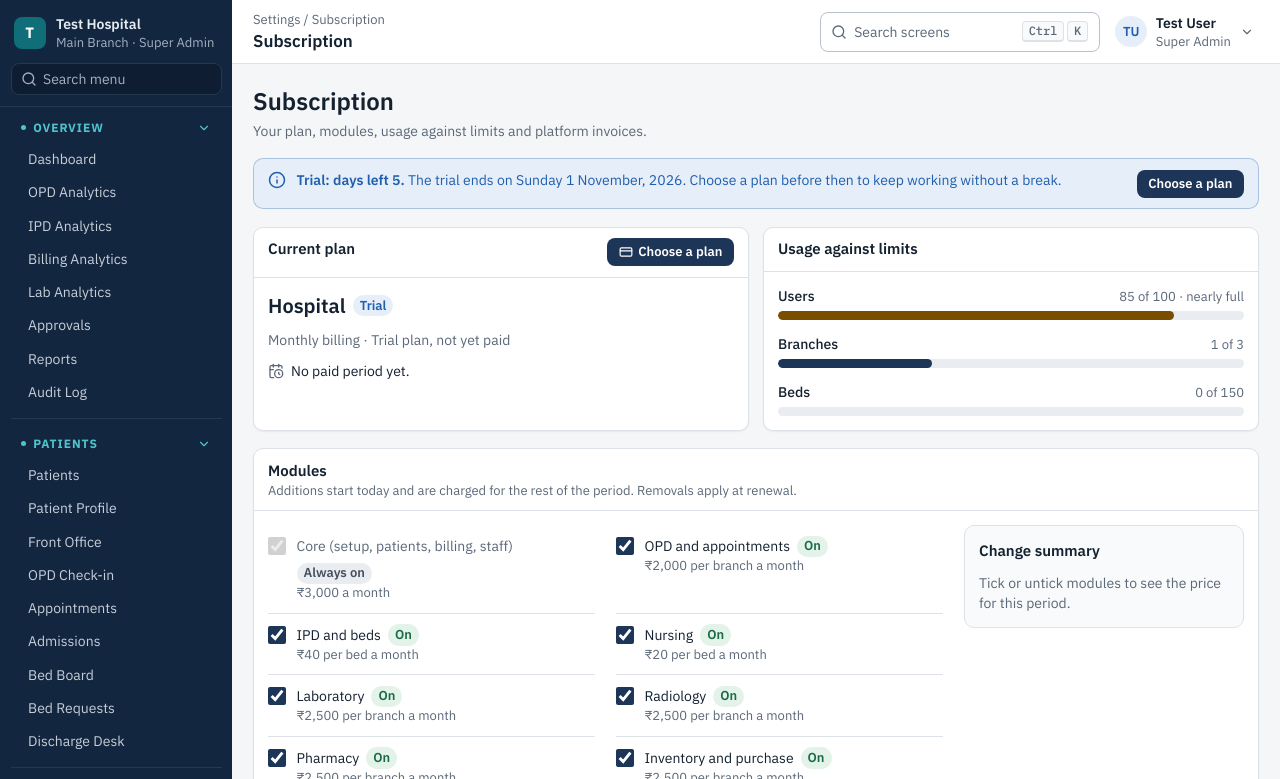
Test case: Subscription › prices a module change live, shows what blocks it, and applies it
Click the checkbox labelled "IPD and beds On" at (277, 635), box [268,626,286,644]
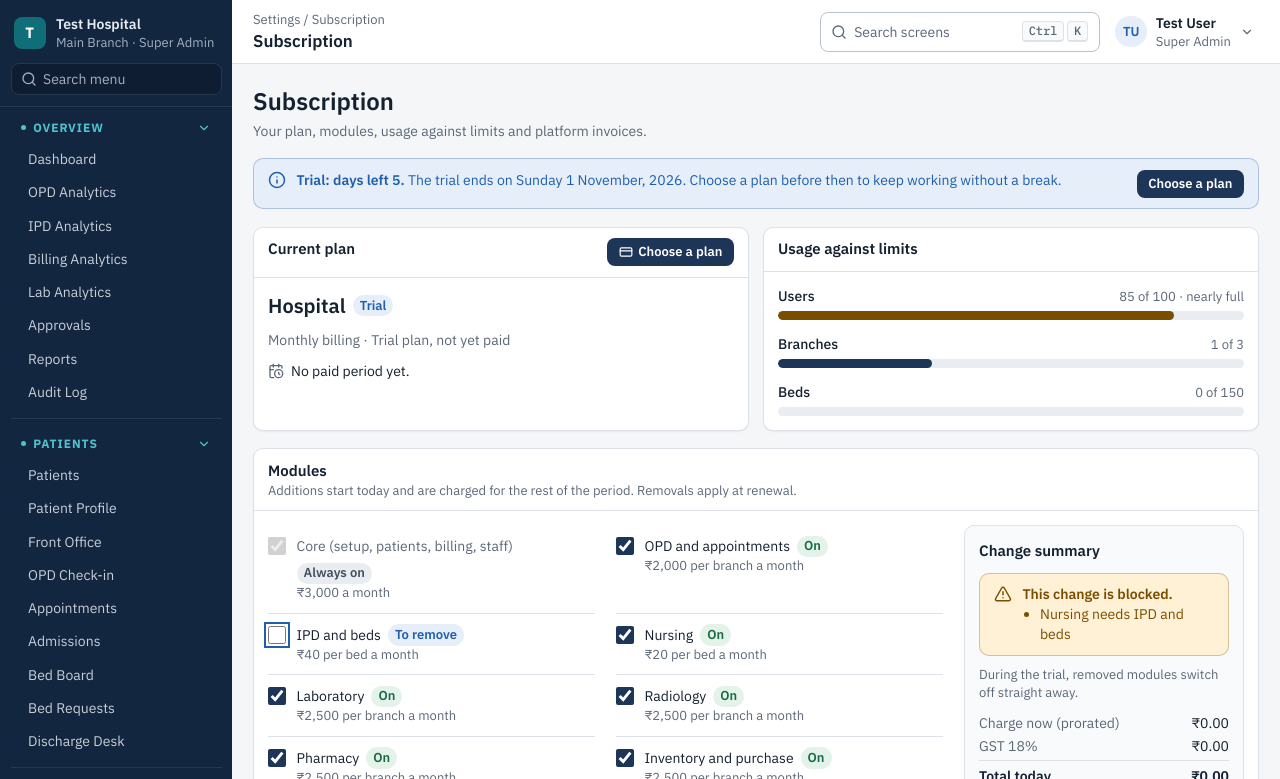
Check: the list item "Nursing needs IPD and beds" is shown, box [1040,605,1184,643]
Click the checkbox labelled "IPD and beds To remove" at (277, 635), box [268,626,286,644]
(page scrolled)
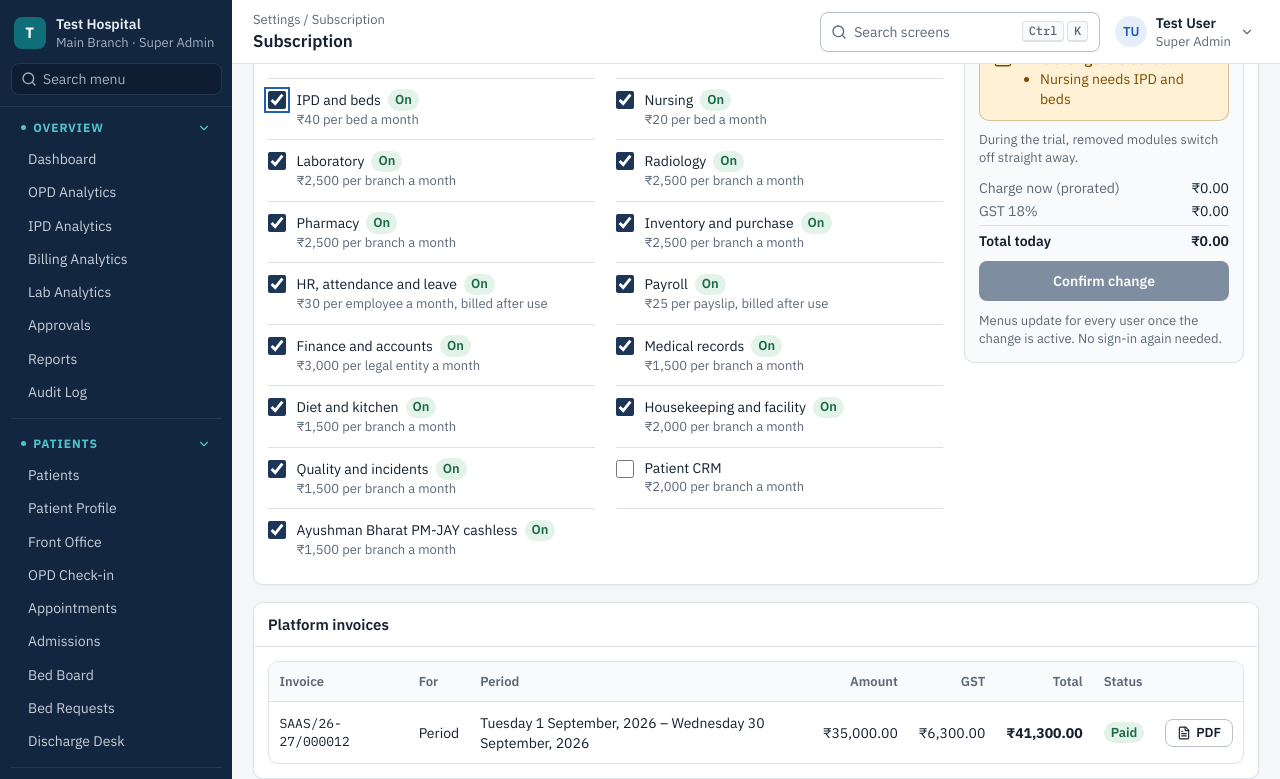
Click the checkbox labelled "Patient CRM" at (625, 469), box [616,460,634,478]
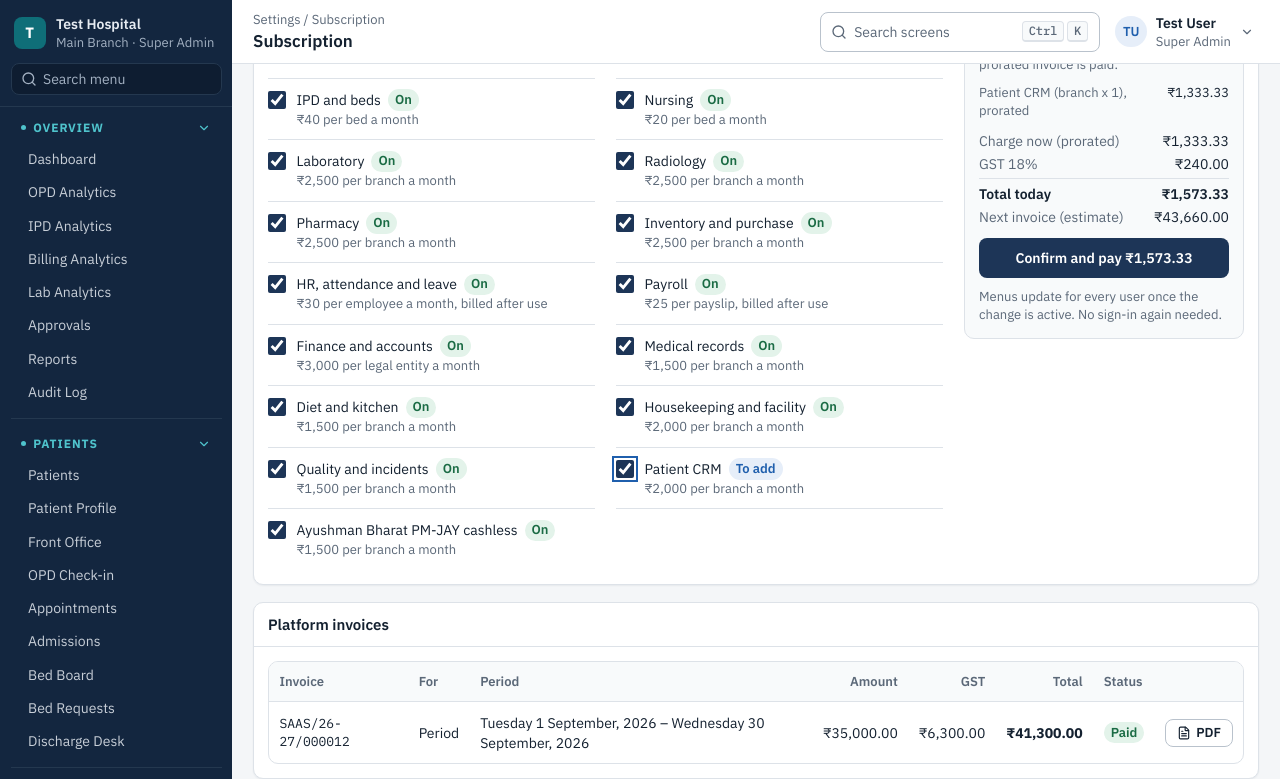
Check: the text "Patient CRM (branch x 1), prorated" is shown, box [979,84,1127,119]
Check: the text "₹43,660.00" is shown, box [1154,207,1229,227]
Click the button "Confirm and pay ₹1,573.33" at (1104, 258), box [979,238,1229,278]
(page scrolled)
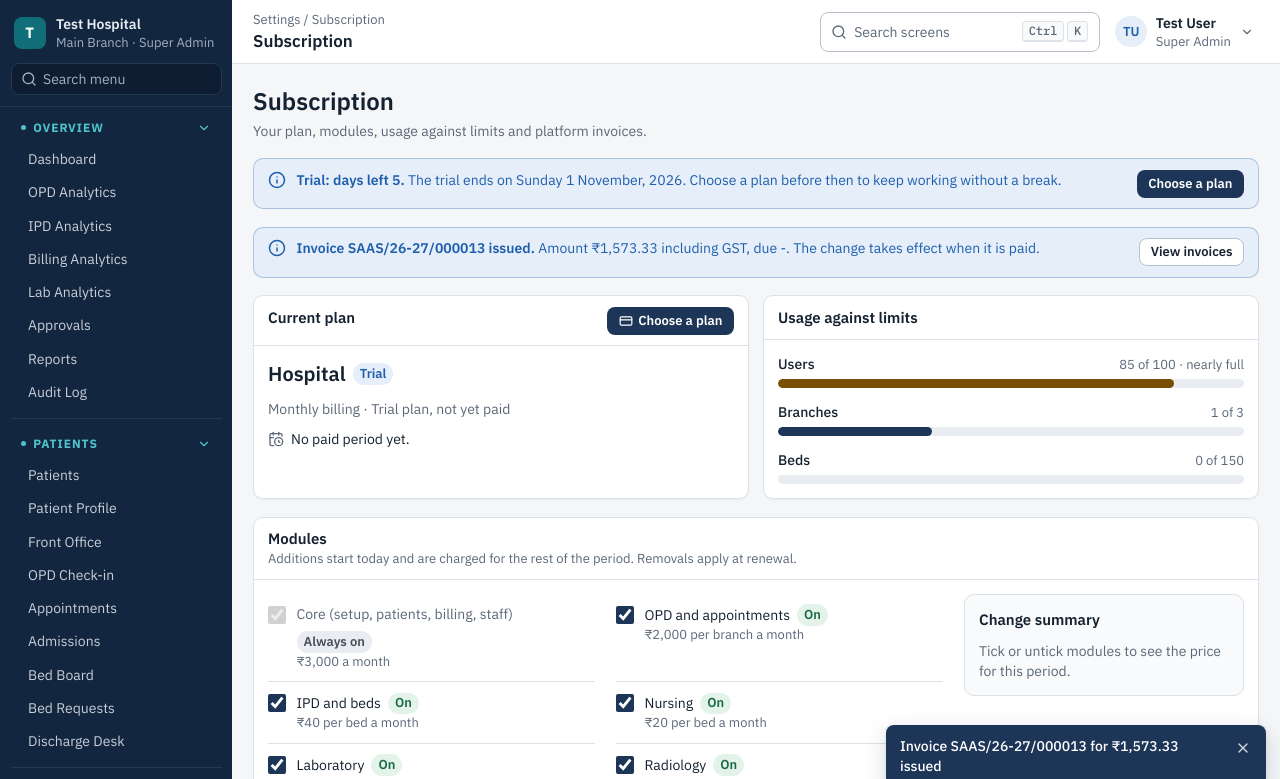
Check: the text "Invoice SAAS/26-27/000013 issued." is shown, box [296,239,538,257]
